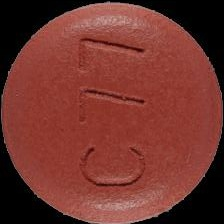65597-113: (0, 0, 224, 224)
